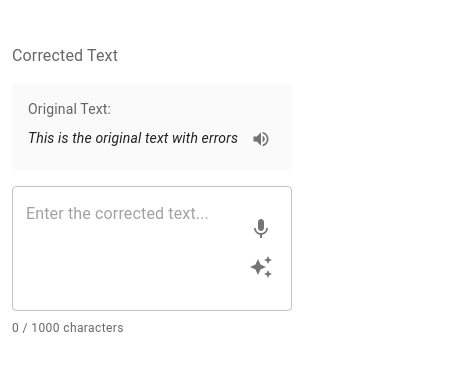
Test: CorrectionInput › AI Suggestions › displays suggestions when button is clicked
The width and height of the screenshot is (455, 388).
Click the button named "show ai suggestions": point(261, 267) [244,250,278,284]
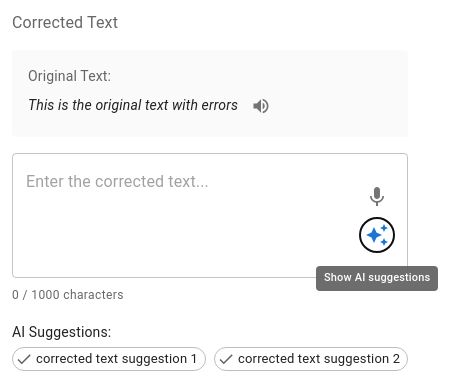
Expected: the text "AI Suggestions:" is shown, [12,324,111,340]
Expected: the text "corrected text suggestion 1" is shown, [29,349,205,369]
Expected: the text "corrected text suggestion 2" is shown, [231,349,407,369]
